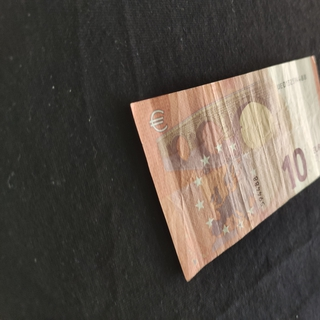10EUROBack: (129, 55, 320, 282)
